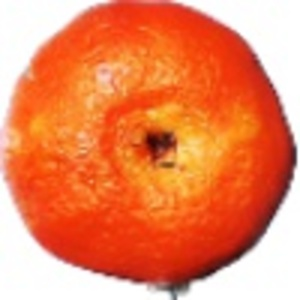tangerina: (1, 2, 300, 300)
